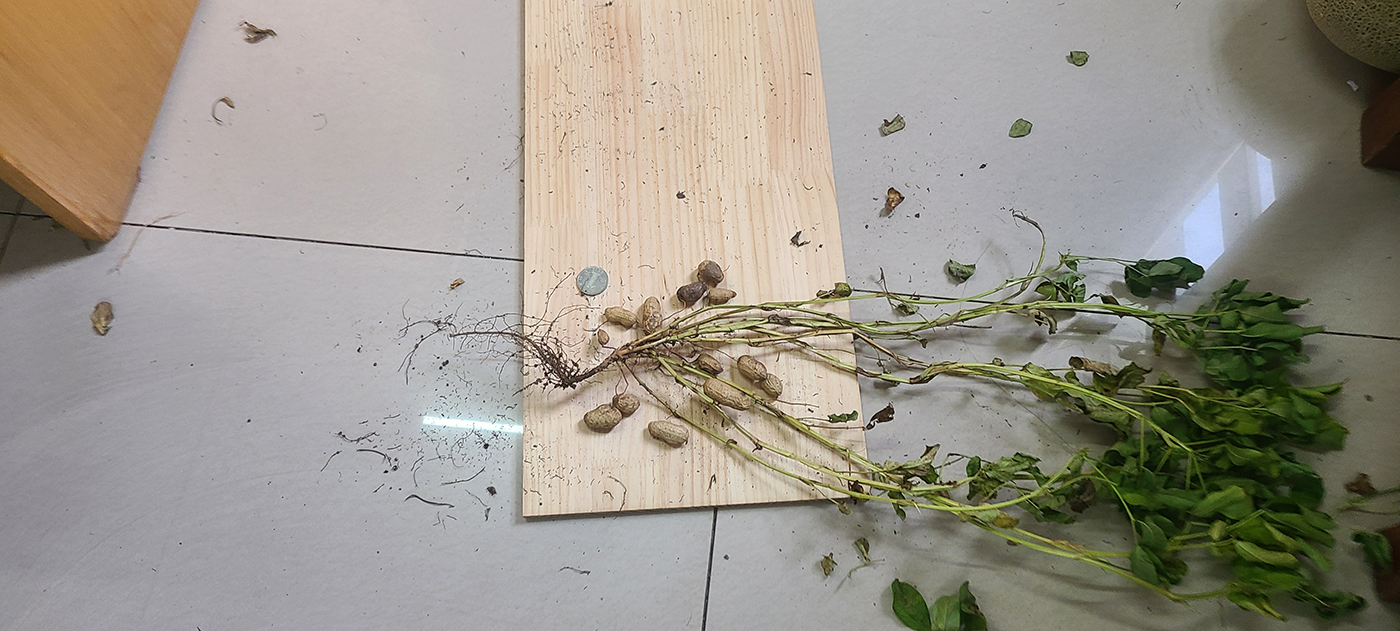h: (738, 356, 783, 398), (703, 378, 753, 410), (647, 420, 689, 446), (584, 405, 622, 433), (642, 296, 662, 335), (605, 306, 637, 329), (613, 392, 641, 415), (699, 354, 723, 374), (707, 289, 736, 303)
l: (676, 281, 706, 305), (698, 260, 725, 284)
